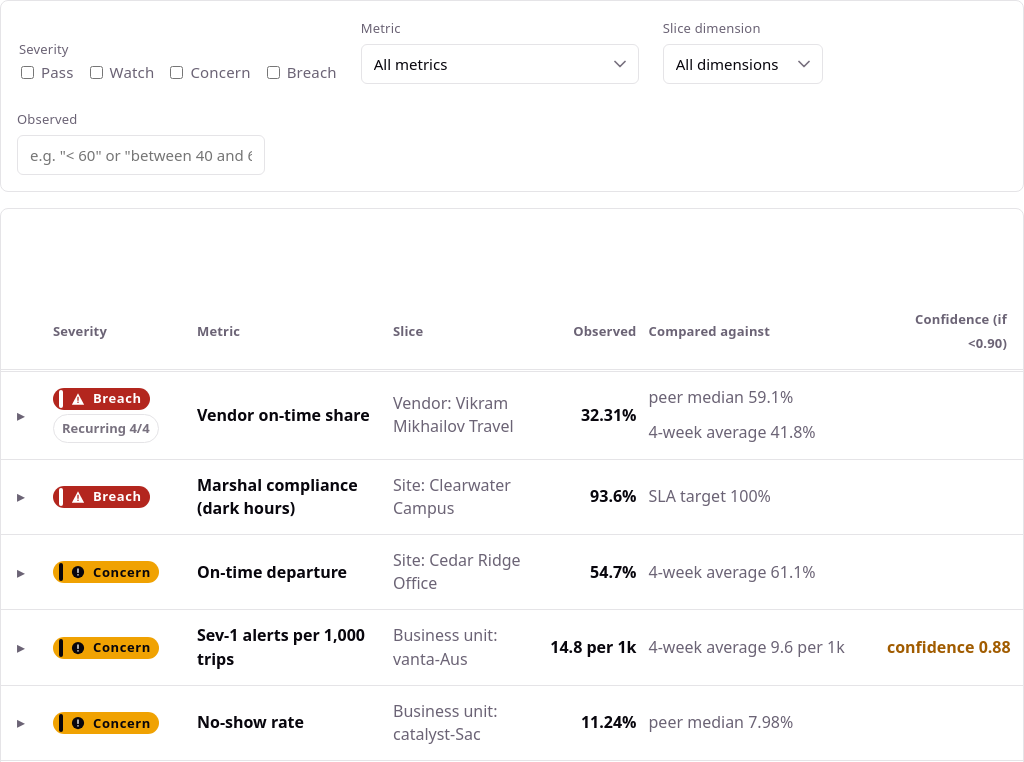
Test case: FindingsPage › shows the plain empty-result state when filters match nothing
The image size is (1024, 762).
Type "> 100000" into the field labelled "Observed" at coordinates (141, 155), box [17,135,265,175]
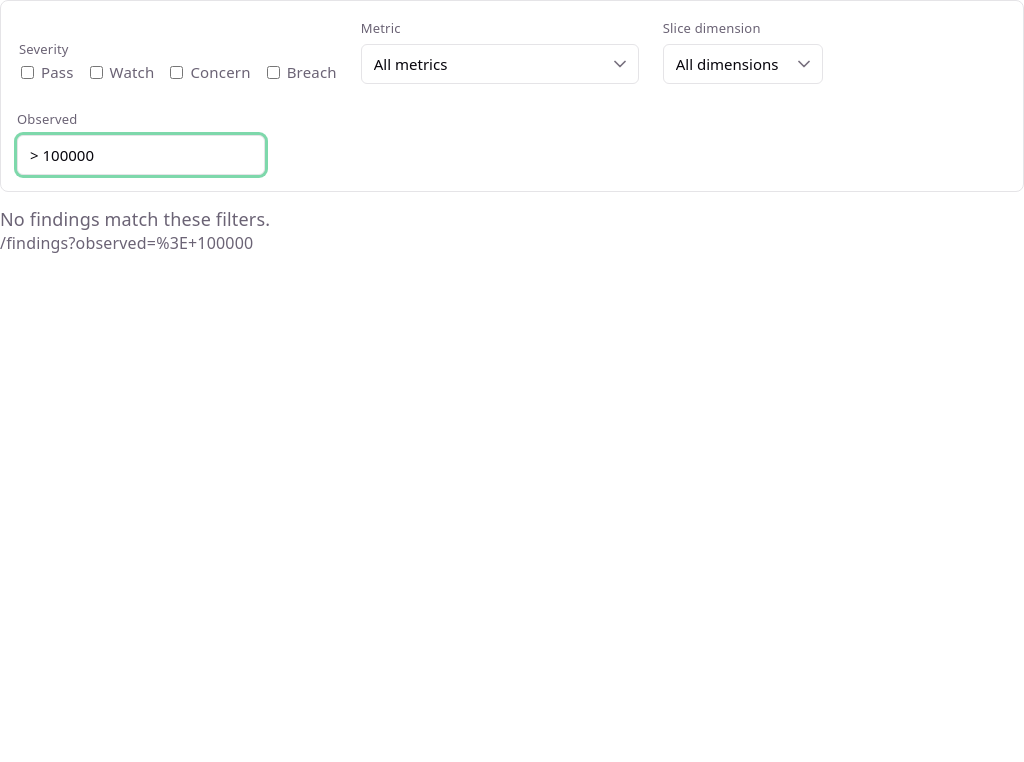
Expected: the text "No findings match these filters." is shown, [0,207,270,231]
